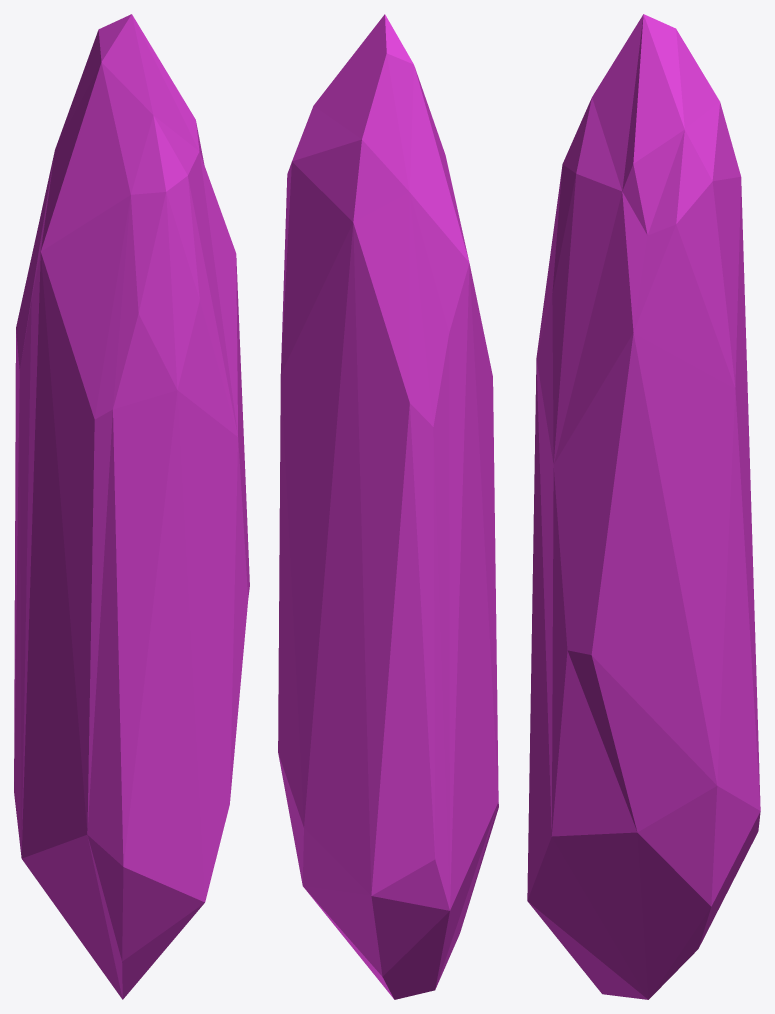
The model's file is sm_Crystal02.fbx.
3 renders of one model, left to right at view 1: azimuth 30°, elevation 25°; view 2: azimuth 150°, elevation 25°; view 3: azimuth 270°, elevation 25°, orthographic. The views are drawn at different scales.
Visible parts, largest first — view 1: Crystal02; view 2: Crystal02; view 3: Crystal02.
Part boxes in pixels (x1=…): Crystal02: x1=14, y1=14, x2=249, y2=999; Crystal02: x1=278, y1=14, x2=498, y2=999; Crystal02: x1=527, y1=14, x2=760, y2=999.
Bounding box in the file's own units: 257 × 1267 × 269.
